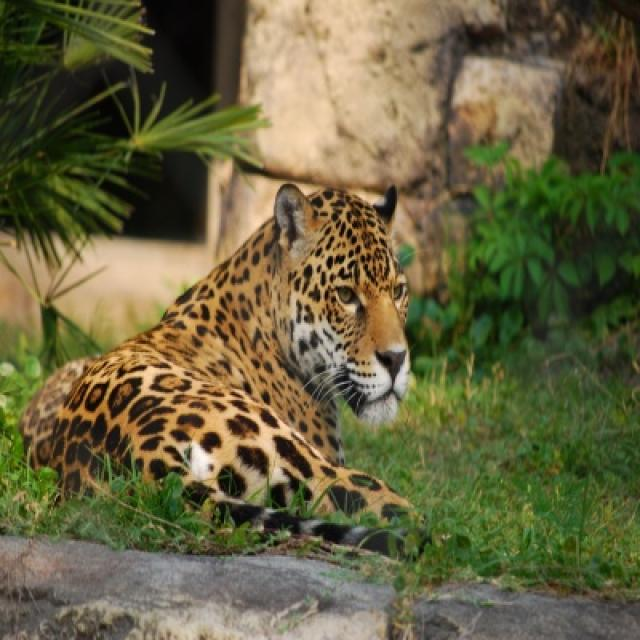Jaguar: (19, 186, 424, 554)
